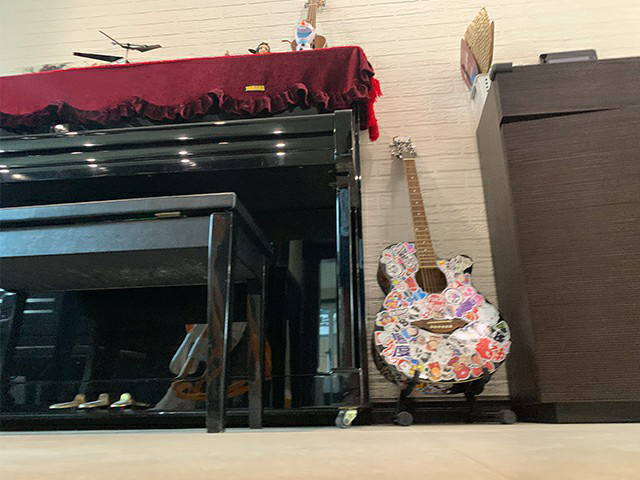cabinet: (476, 55, 640, 426)
stool: (1, 192, 275, 433)
